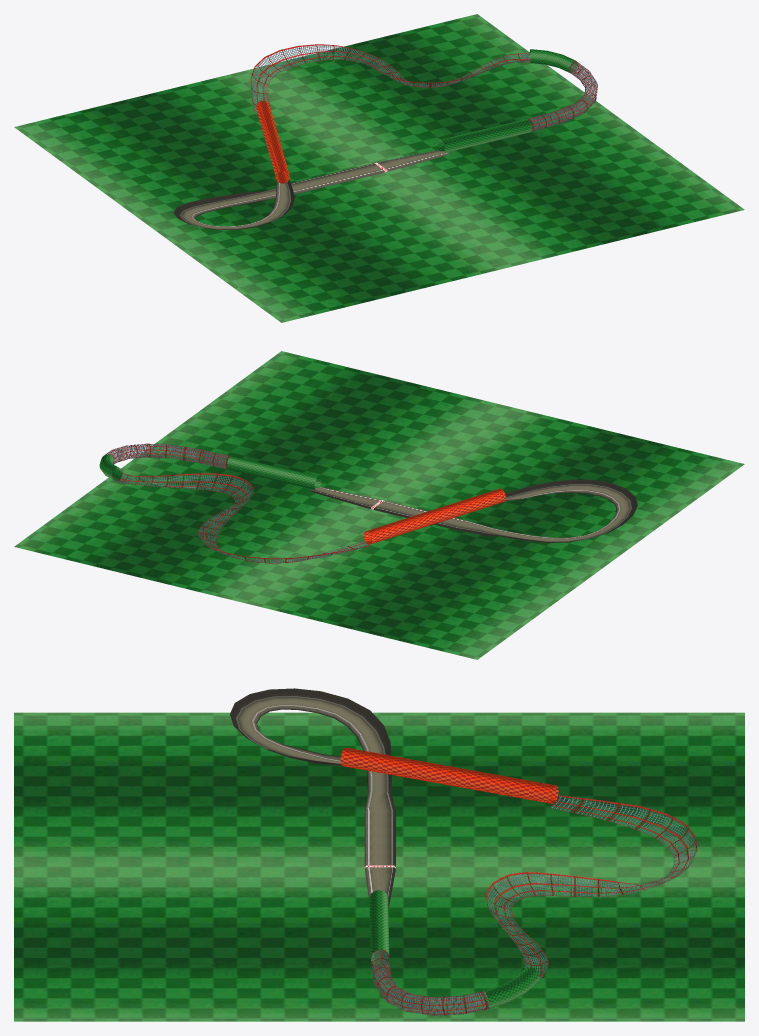
Rendered from dokan_course.glb.
The picture shows the model from 3 angles, top to bottom: view 1: azimuth 30°, elevation 25°; view 2: azimuth 150°, elevation 25°; view 3: azimuth 270°, elevation 25°; orthographic projection. The views are drawn at different scales.
Visible parts, largest first — view 1: dokan_course; view 2: dokan_course; view 3: dokan_course.
Boxes of the visible parts, <box> form: dokan_course: <box>14,14,744,322</box>; dokan_course: <box>14,351,744,659</box>; dokan_course: <box>14,688,744,1021</box>.
Size of the model in its own units: 363 by 25.83 by 356.
5 materials, 5 textured.
